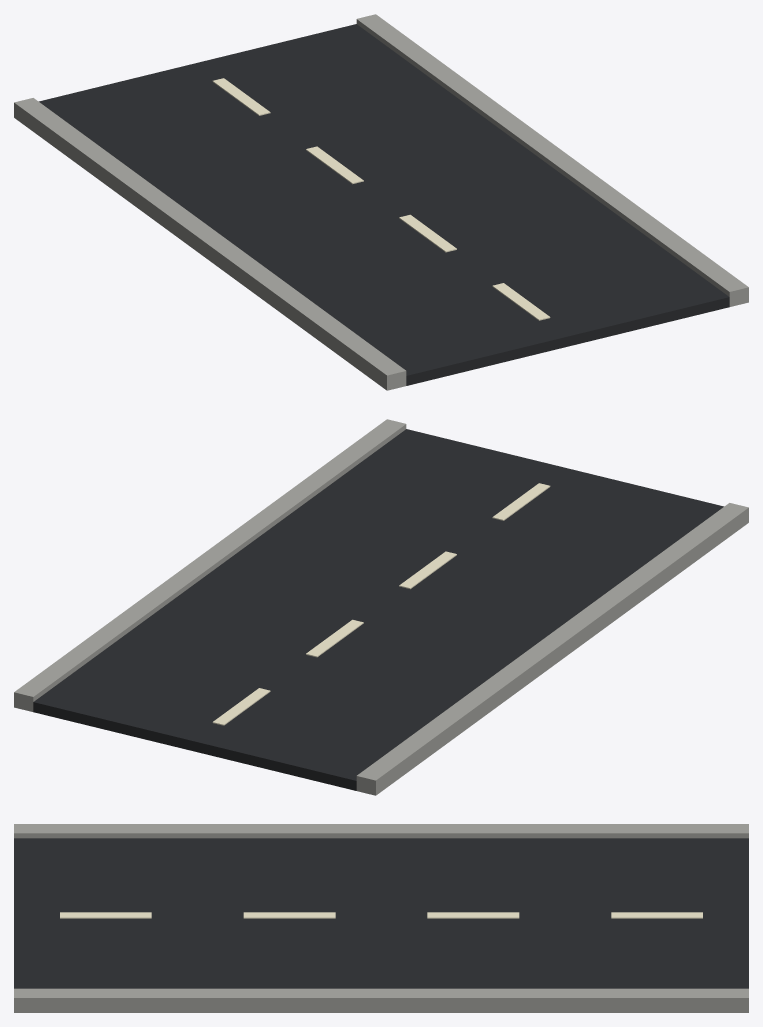
File: road_asphalt_straight.glb
3 views of the same model, one above another, from view 1: azimuth 30°, elevation 25°; view 2: azimuth 150°, elevation 25°; view 3: azimuth 270°, elevation 25° (orthographic).
Visible parts, largest first — view 1: body; view 2: body; view 3: body.
Boxes of the visible parts, bbox=[...] form: body: bbox=[14, 14, 748, 390]; body: bbox=[14, 419, 748, 795]; body: bbox=[14, 824, 748, 1012].
Size of what is drawn, in the model's own units: 4.48 by 0.18 by 8.
